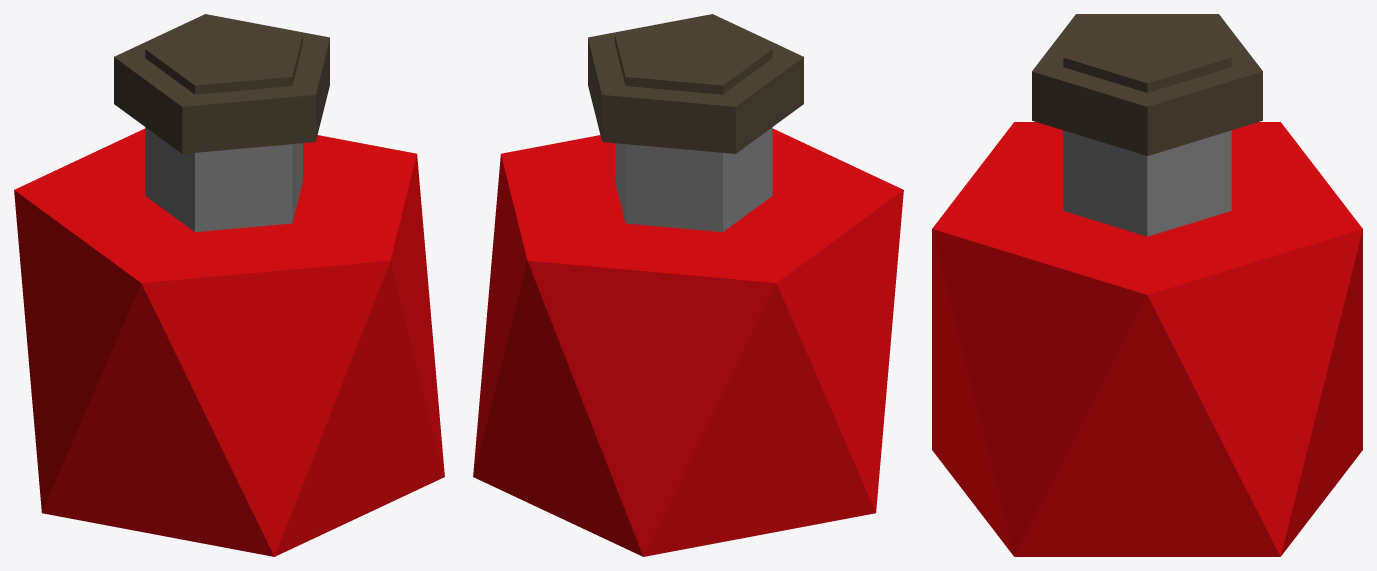
The model's file is Potion.fbx.
3 renders of one model, left to right at view 1: azimuth 30°, elevation 25°; view 2: azimuth 150°, elevation 25°; view 3: azimuth 270°, elevation 25°, orthographic. The views are drawn at different scales.
Visible parts, largest first — view 1: Potion; view 2: Potion; view 3: Potion.
Boxes of the visible parts, left/top/right/bottom form: Potion: left=14, top=14, right=444, bottom=556; Potion: left=473, top=14, right=903, bottom=556; Potion: left=932, top=14, right=1362, bottom=556.
Bounding box in the file's own units: 26.83 × 28.33 × 25.52.
